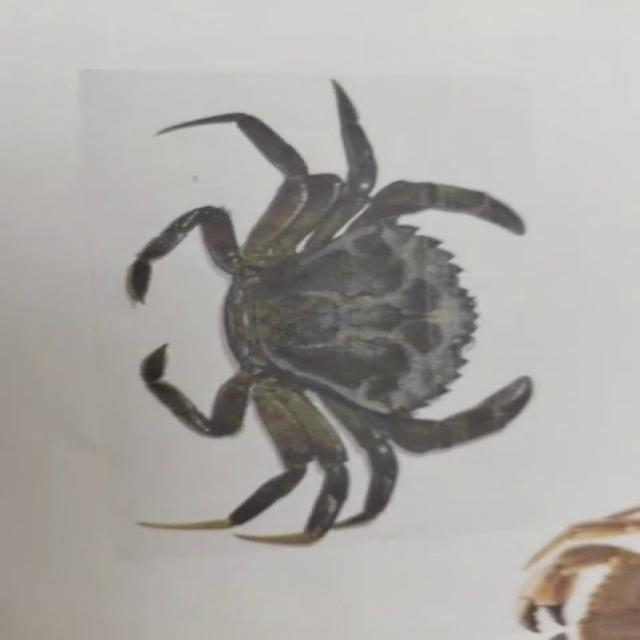egc: (127, 81, 532, 544)
